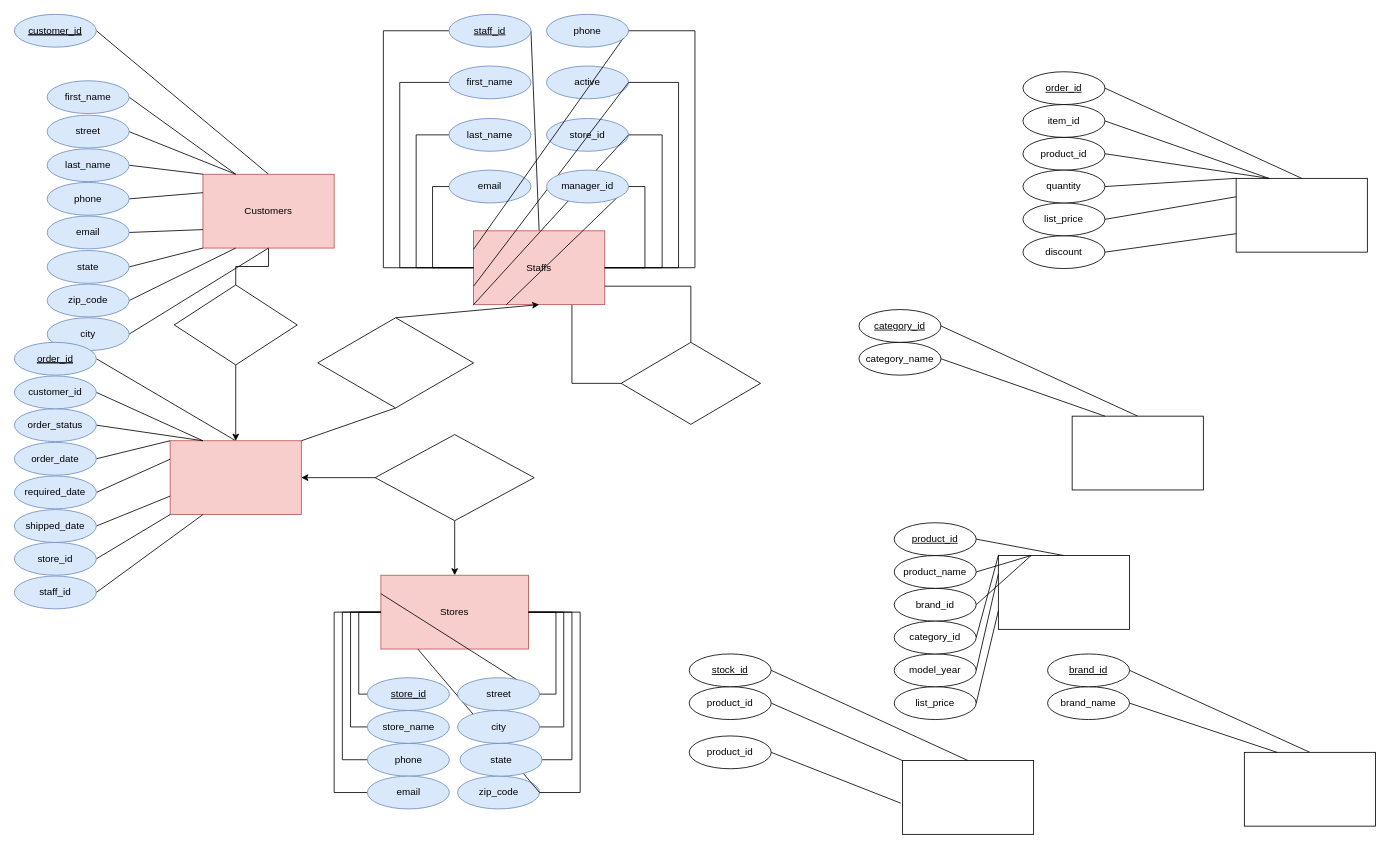
This 1390x849 diagram has some shape labels left out. Each missing label, with the centre of its shape:
"Brands" goes at (x=1310, y=789).
"Categories" goes at (x=1137, y=452).
"Handle/ Handled by" goes at (x=395, y=362).
"Order_Items" goes at (x=1301, y=215).
"Orders" goes at (x=235, y=477).
"Products" goes at (x=1064, y=592).
"Request/Requested by" goes at (x=235, y=324).
"Send/Sent from" goes at (x=454, y=477).
"Stocks" goes at (x=968, y=797).
"Team" goes at (x=690, y=383).
